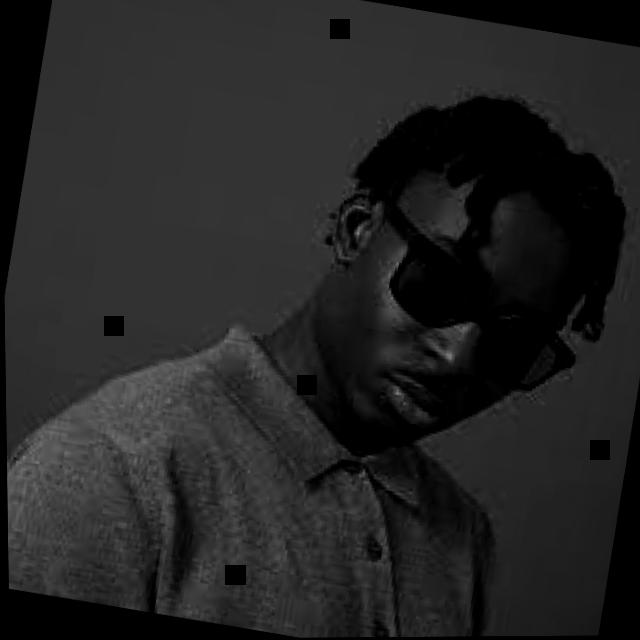NO-Mask: (306, 171, 590, 473)
